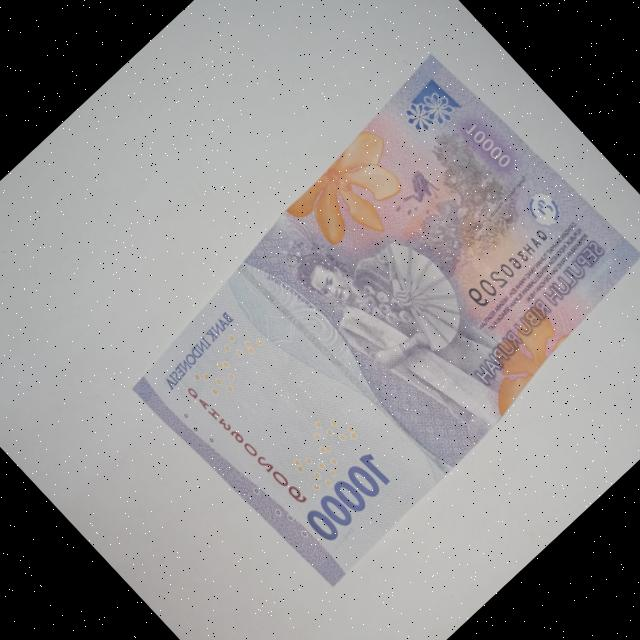10K: (97, 35, 640, 604)
